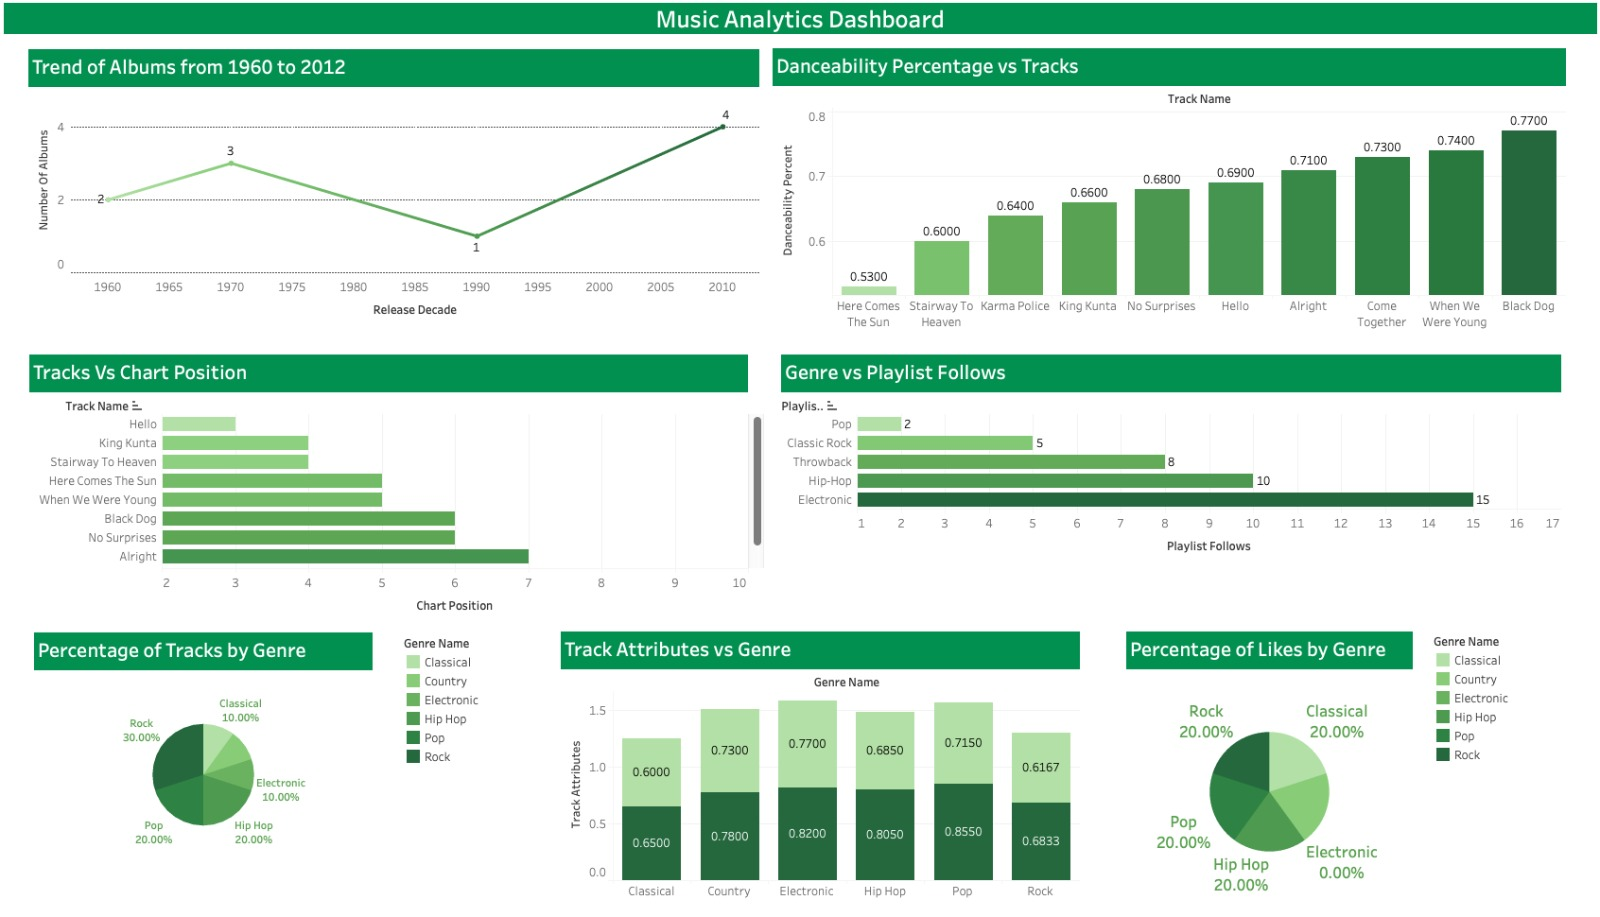

The dashboard page shown, as its layout file describes it:
{"tool":"tableau","page":{"name":"Dashboard 1","canvas":[1000,1000],"units":"permille","ordinal":0},"visuals":[{"type":"title","box":[4.7,8.1,990.6,41.5]},{"type":"worksheet","title":"Sheet 3","mark":"Bar","rows":["danceability_percent"],"cols":["trackName"],"box":[482.7,60.7,490.9,304.7]},{"type":"worksheet","title":"Sheet 1","mark":"Line","rows":["NumberOfAlbums"],"cols":["ReleaseDecade"],"box":[22.2,61.7,452.3,294.5]},{"type":"worksheet","title":"Sheet 2","mark":"Bar","rows":["trackName"],"cols":["chart_position"],"box":[22.8,388.7,454.7,284.4]},{"type":"worksheet","title":"Sheet 4","mark":"Bar","rows":["playlist_name"],"cols":["playlist_follows"],"box":[488,388.7,482.7,254.1]},{"type":"worksheet","title":"Sheet 6","mark":"Automatic","cols":["genre_name"],"box":[351.7,685.2,321.2,287.4]},{"type":"worksheet","title":"Sheet 7","mark":"Pie","box":[701.6,685.2,177.3,299.6]},{"type":"worksheet","title":"Sheet 5","mark":"Pie","box":[25.8,686.2,209.5,261.1]},{"type":"legend","title":"Sheet 7","param":"[federated.1ps6rpt1tm6pdz1686jfm1yxdveu].[none:genre_name:nk]","box":[891.8,687.2,81.9,139.7]},{"type":"legend","title":"Sheet 5","param":"[federated.02o17f80ts045919jofv50x4crop].[none:genre_name:nk]","box":[254.5,689.3,51.5,145.8]}]}

Visuals, with their boxes on the dashboard's canvas, which has no fixed pixel size, in thousandths of its width and height (x1, y1, x2, y2). These are canvas units, not pixel positions in the 1600x917 screenshot, which may show the page scaled, cropped or inside an application window:
title: box=[5, 8, 995, 50]
"Sheet 3" worksheet (Bar marks): box=[483, 61, 974, 365]
"Sheet 1" worksheet (Line marks): box=[22, 62, 474, 356]
"Sheet 2" worksheet (Bar marks): box=[23, 389, 478, 673]
"Sheet 4" worksheet (Bar marks): box=[488, 389, 971, 643]
"Sheet 6" worksheet: box=[352, 685, 673, 973]
"Sheet 7" worksheet (Pie marks): box=[702, 685, 879, 985]
"Sheet 5" worksheet (Pie marks): box=[26, 686, 235, 947]
"Sheet 7" legend: box=[892, 687, 974, 827]
"Sheet 5" legend: box=[254, 689, 306, 835]
